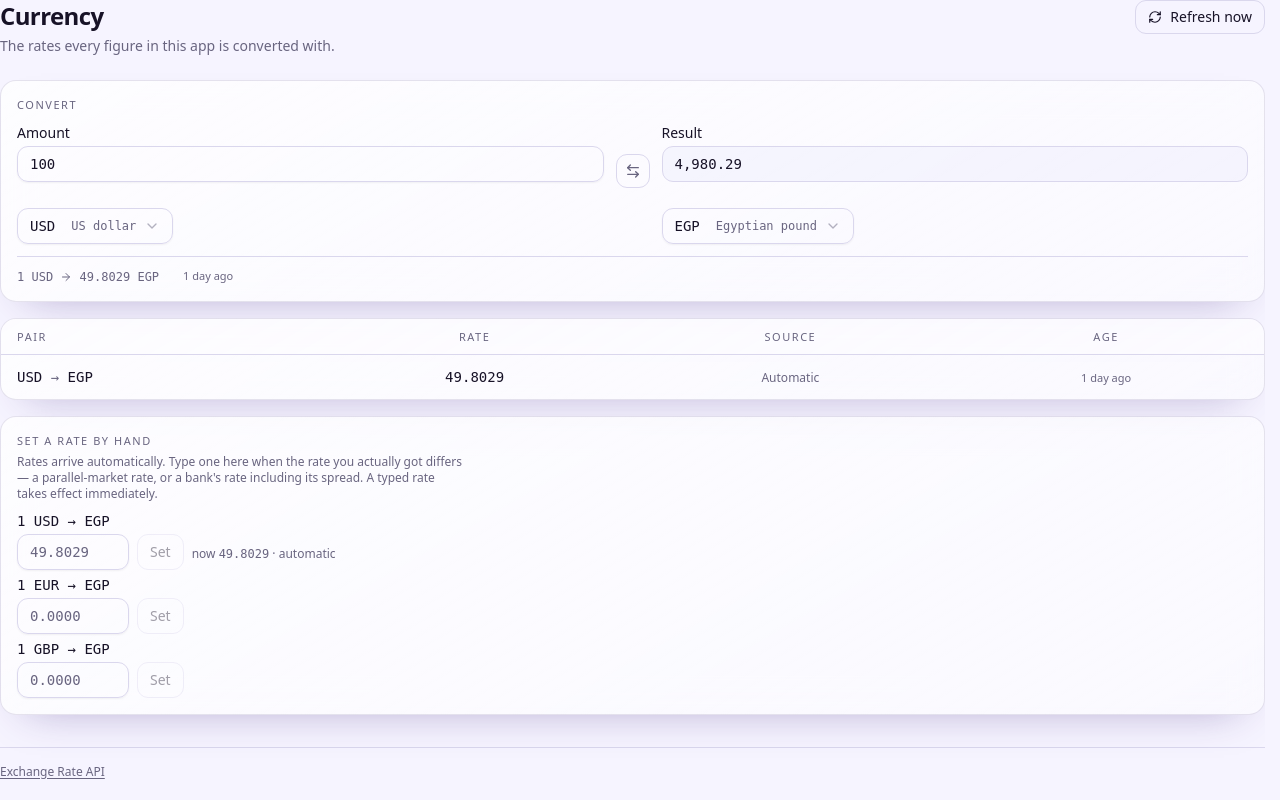
Test: refreshing › reports what moved, with the previous figure beside the new one
Click the button "Refresh now". click: (1200, 17)
box: [1135, 0, 1265, 34]
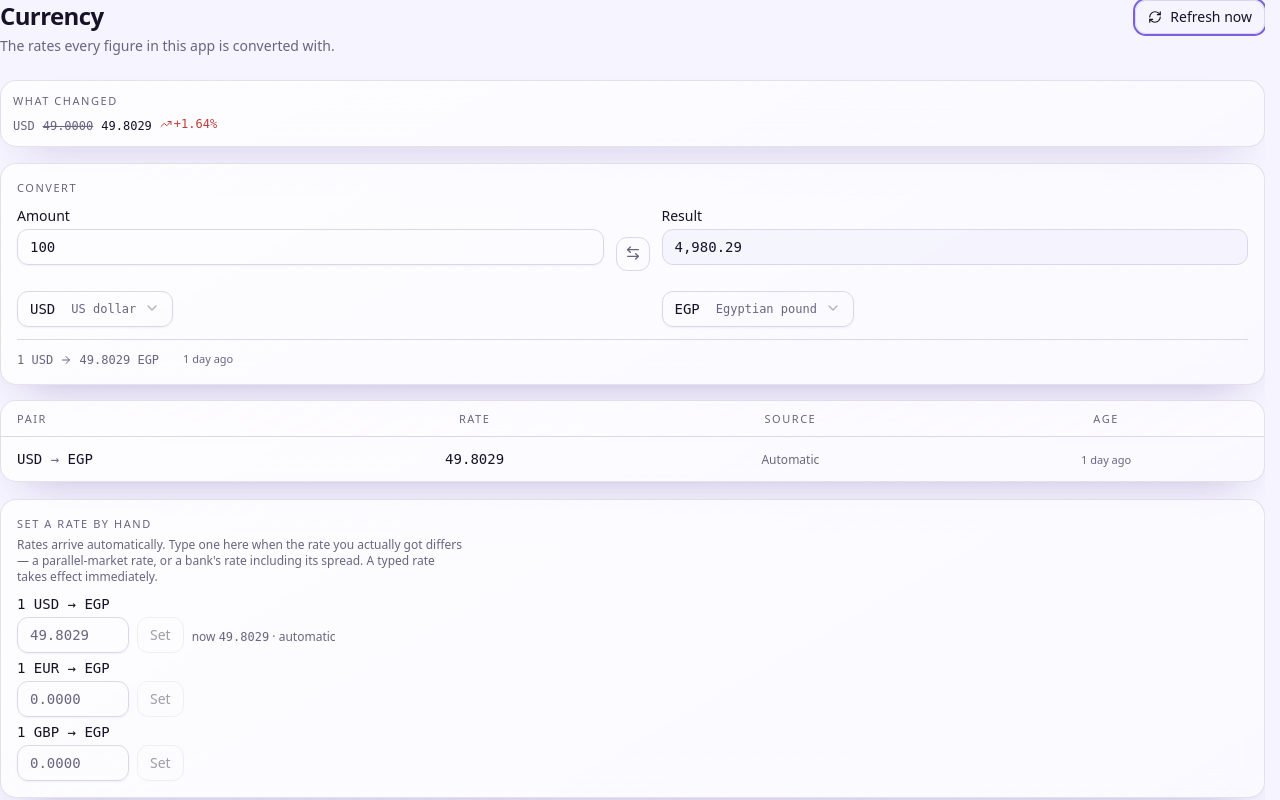
Check: the text "49.0000" is shown, box [43, 118, 93, 134]
Check: the text "49.8029" next to "49.0000" is shown, box [101, 118, 152, 132]
Check: the text "+1.64%" is shown, box [160, 116, 217, 132]
